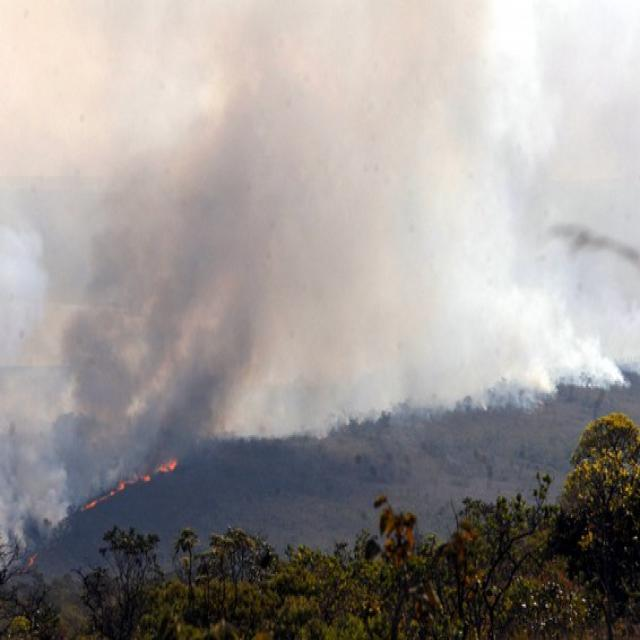Fire: (56, 432, 192, 526)
Smoke: (16, 8, 631, 420), (2, 395, 124, 566)
